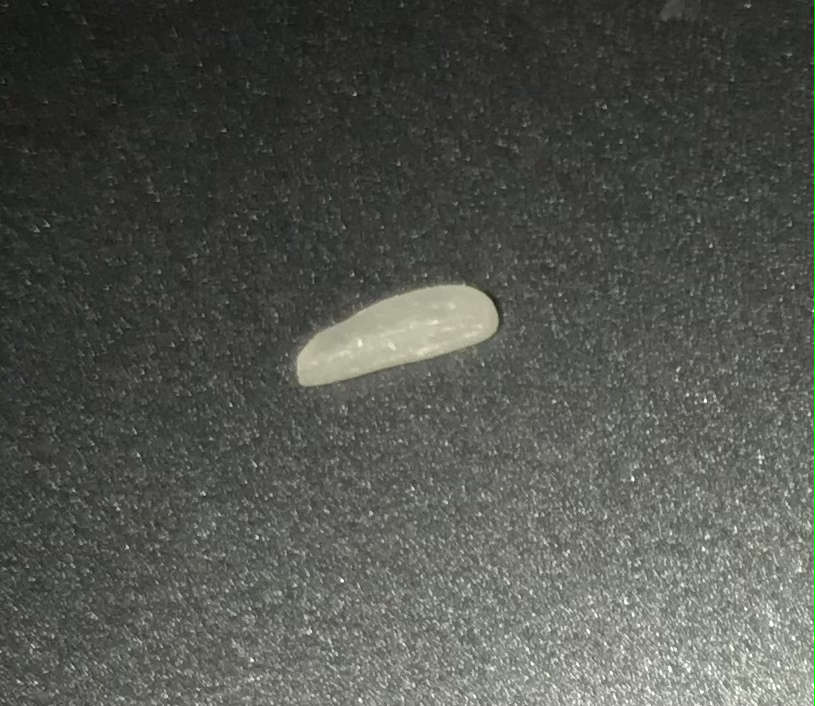Gao Tam Thom: (282, 267, 518, 387)
